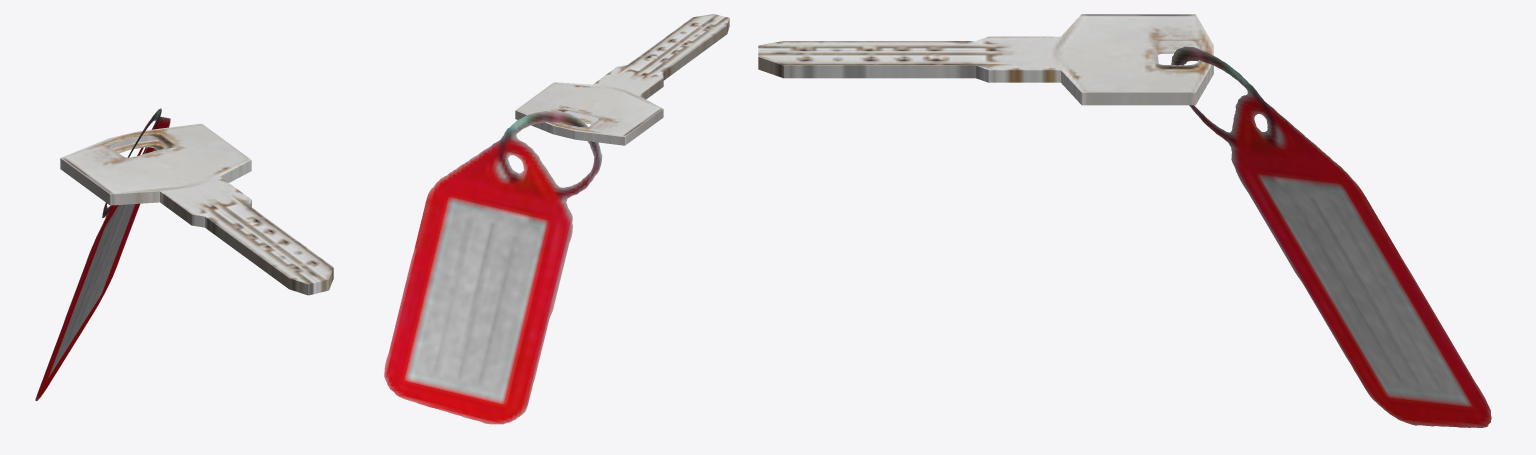
File: key_factory.fbx
3 views of the same model, side by side, from view 1: azimuth 30°, elevation 25°; view 2: azimuth 150°, elevation 25°; view 3: azimuth 270°, elevation 25° (orthographic). The views are drawn at different scales.
Parts seen in each view (by area): view 1: key_facto; view 2: key_facto; view 3: key_facto.
Boxes of the visible parts, x1,y1,x2,y2 form: key_facto: (35, 108, 333, 400); key_facto: (384, 14, 729, 424); key_facto: (758, 14, 1491, 427).
Size of the model in its own units: 10.05 by 20.08 by 29.68.
Materials: 1 (1 with a texture image).
